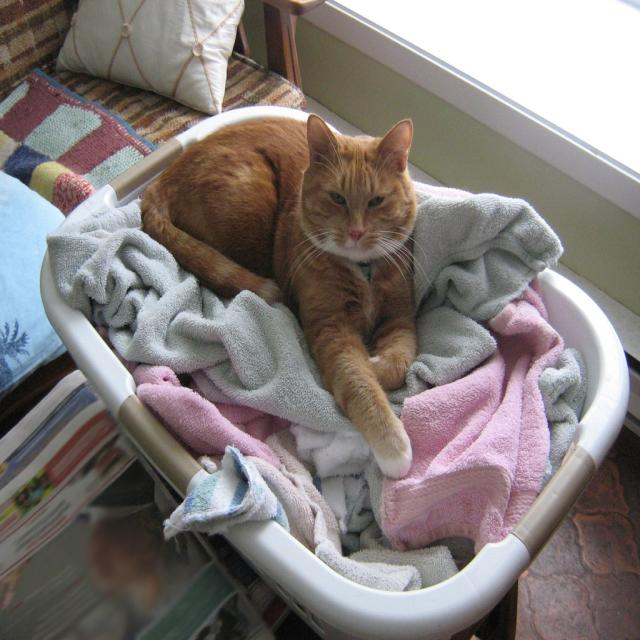Cat: (138, 107, 428, 480)
